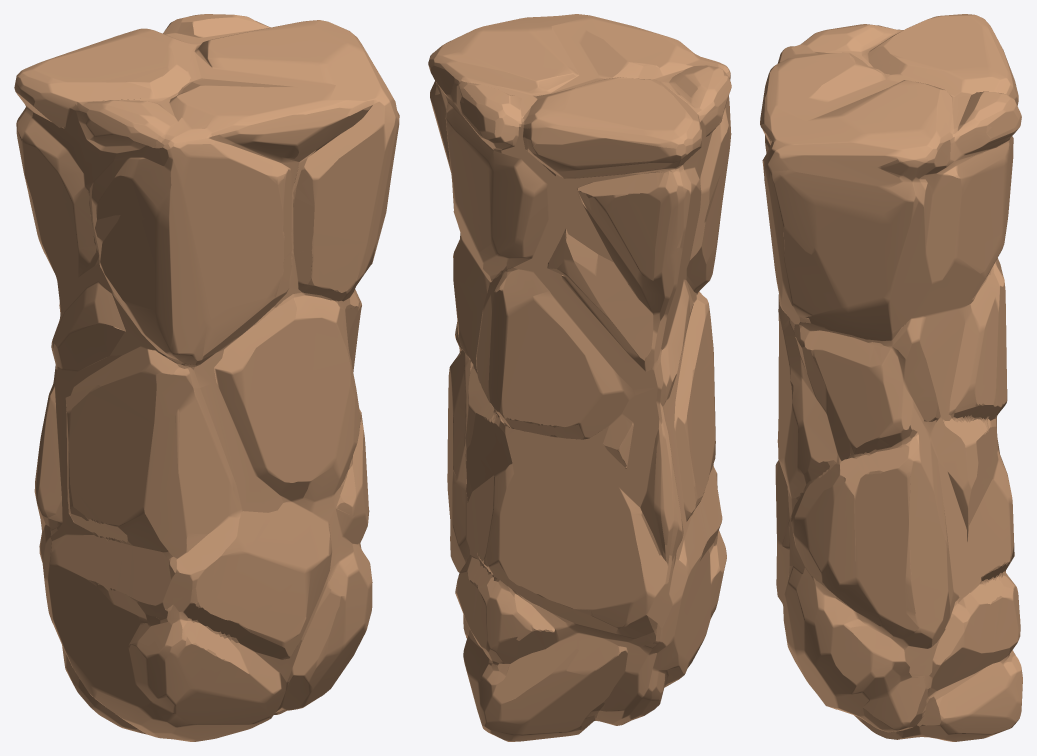
3 renders of one model, left to right at view 1: azimuth 30°, elevation 25°; view 2: azimuth 150°, elevation 25°; view 3: azimuth 270°, elevation 25°, orthographic. The views are drawn at different scales.
Visible parts, largest first — view 1: Mesh_7_LOD0; view 2: Mesh_7_LOD0; view 3: Mesh_7_LOD0.
Boxes of the visible parts, x1,y1,x2,y2 form: Mesh_7_LOD0: [14, 14, 399, 741]; Mesh_7_LOD0: [428, 14, 731, 741]; Mesh_7_LOD0: [760, 14, 1022, 741].
Size of what is drawn, in the model's own units: 1838 by 3908 by 1444.
